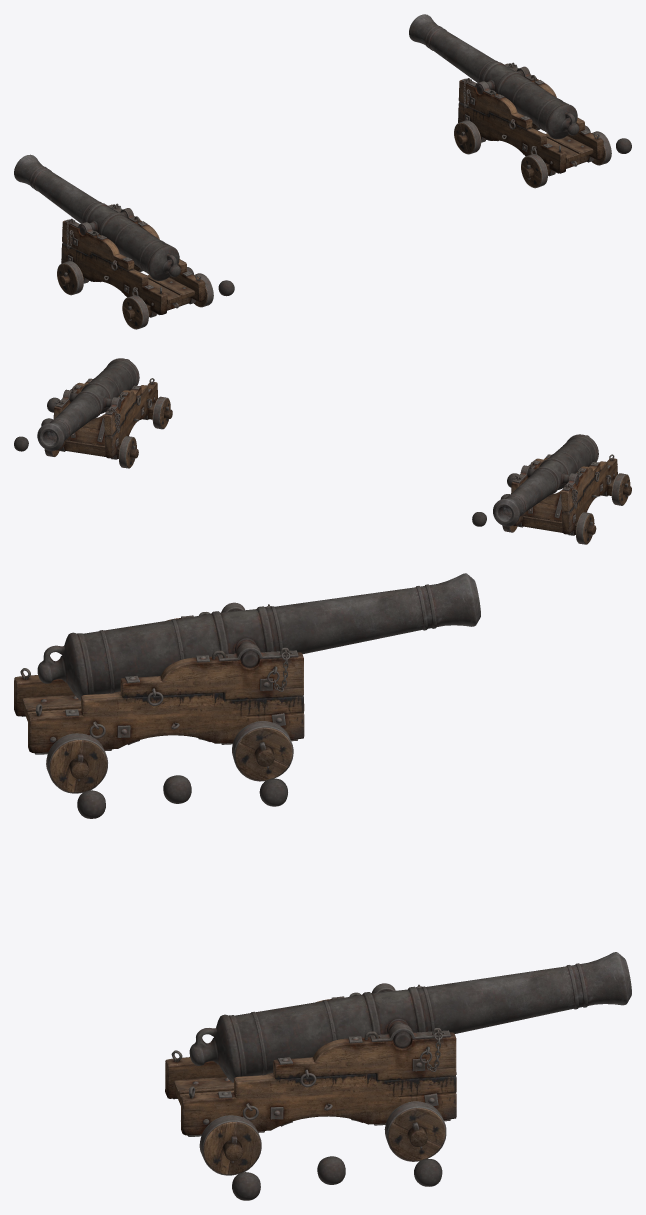
File: cannon_v2.glb
3 renders of one model, top to bottom at view 1: azimuth 30°, elevation 25°; view 2: azimuth 150°, elevation 25°; view 3: azimuth 270°, elevation 25°, orthographic. The views are drawn at different scales.
Parts seen in each view (by area): view 1: FG_Cannon_PH.001, FG_Cannon_PH; view 2: FG_Cannon_PH, FG_Cannon_PH.001; view 3: FG_Cannon_PH.001, FG_Cannon_PH.
Part boxes in pixels (<box>): FG_Cannon_PH.001: <box>409,14,631,188</box>; FG_Cannon_PH: <box>14,154,234,329</box>; FG_Cannon_PH: <box>472,434,631,544</box>; FG_Cannon_PH.001: <box>14,358,172,468</box>; FG_Cannon_PH.001: <box>165,952,631,1200</box>; FG_Cannon_PH: <box>14,573,480,818</box>.
Bounding box in the file's own units: 5.92 × 0.8954 × 3.07.
Materials: 7 (7 with a texture image).
